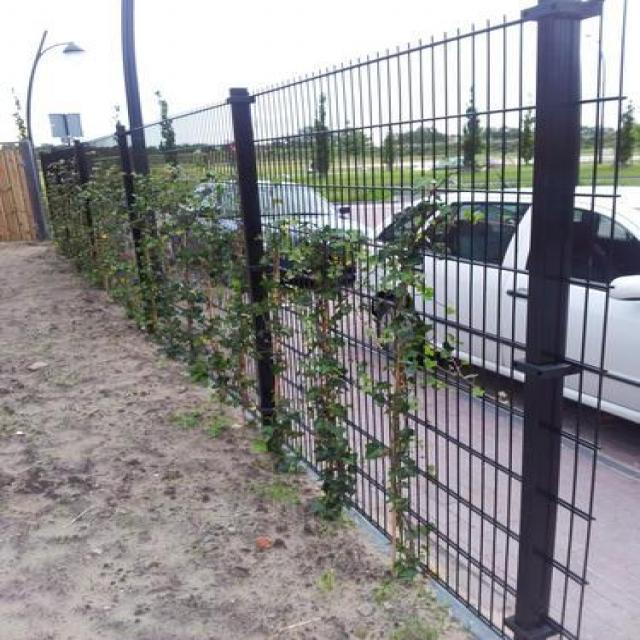fence line: (209, 53, 545, 629), (45, 112, 342, 442)
